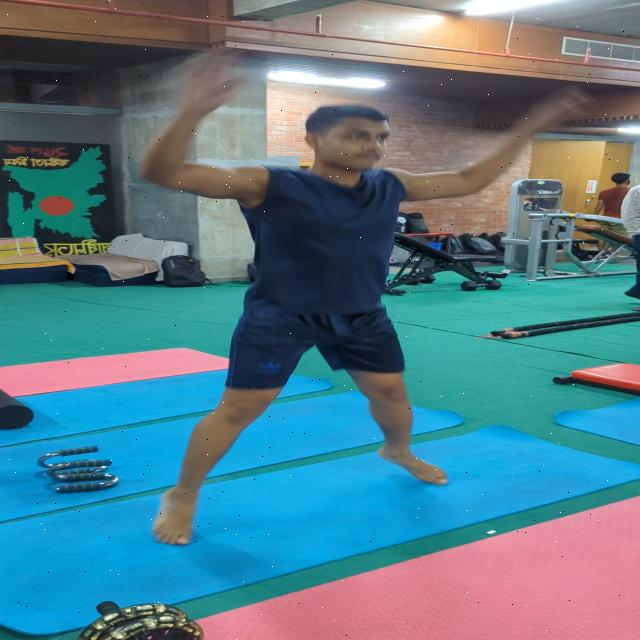Normal_JumpingJacks: (113, 85, 555, 551)
